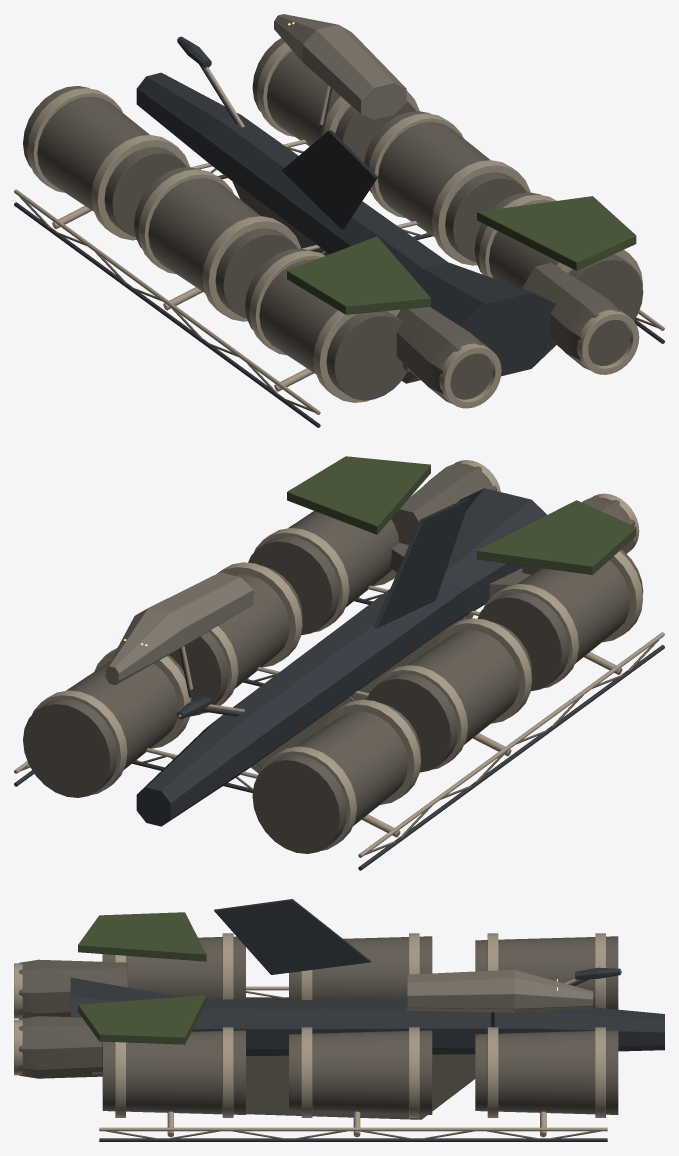
File: transport_caravan.glb
The picture shows the model from 3 angles, top to bottom: view 1: azimuth 30°, elevation 25°; view 2: azimuth 150°, elevation 25°; view 3: azimuth 270°, elevation 25°; orthographic projection. The views are drawn at different scales.
Parts seen in each view (by area): view 1: v4_roaming_secondary, v4_roaming_dark, v4_roaming_trim, v4_roaming_paint, v4_roaming_hull, v4_roaming_ceramic; view 2: v4_roaming_secondary, v4_roaming_dark, v4_roaming_trim, v4_roaming_paint, v4_roaming_hull, v4_roaming_ceramic; view 3: v4_roaming_secondary, v4_roaming_dark, v4_roaming_trim, v4_roaming_paint, v4_roaming_hull, v4_roaming_ceramic.
Part boxes in pixels (left/top/right/bottom): v4_roaming_secondary: left=19, top=38, right=663, bottom=413; v4_roaming_dark: left=14, top=36, right=664, bottom=427; v4_roaming_trim: left=14, top=42, right=664, bottom=414; v4_roaming_paint: left=287, top=196, right=636, bottom=314; v4_roaming_hull: left=274, top=14, right=406, bottom=120; v4_roaming_ceramic: left=282, top=130, right=377, bottom=229; v4_roaming_secondary: left=15, top=462, right=659, bottom=856; v4_roaming_dark: left=14, top=488, right=664, bottom=870; v4_roaming_trim: left=14, top=460, right=664, bottom=857; v4_roaming_paint: left=287, top=456, right=636, bottom=574; v4_roaming_hull: left=105, top=572, right=253, bottom=684; v4_roaming_ceramic: left=373, top=498, right=469, bottom=628; v4_roaming_secondary: left=19, top=936, right=618, bottom=1139; v4_roaming_dark: left=70, top=967, right=664, bottom=1141; v4_roaming_trim: left=14, top=933, right=621, bottom=1137; v4_roaming_paint: left=78, top=912, right=206, bottom=1044; v4_roaming_hull: left=407, top=969, right=593, bottom=1012; v4_roaming_ceramic: left=214, top=899, right=371, bottom=974.
Bounding box in the file's own units: 68.23 × 44.62 × 132.
